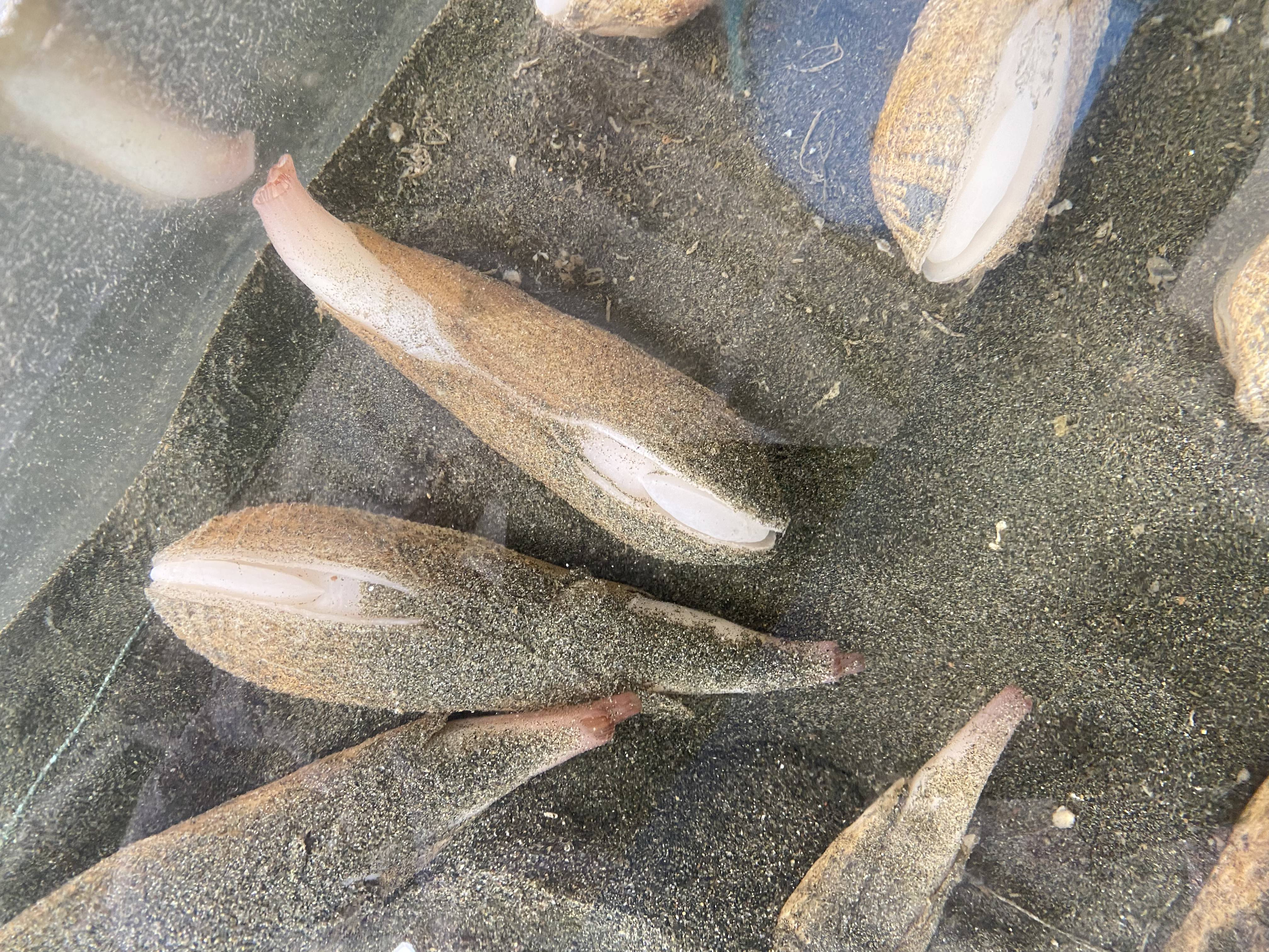Healthy: (253, 155, 787, 564), (0, 694, 639, 952), (146, 504, 862, 712), (776, 686, 1030, 952)
